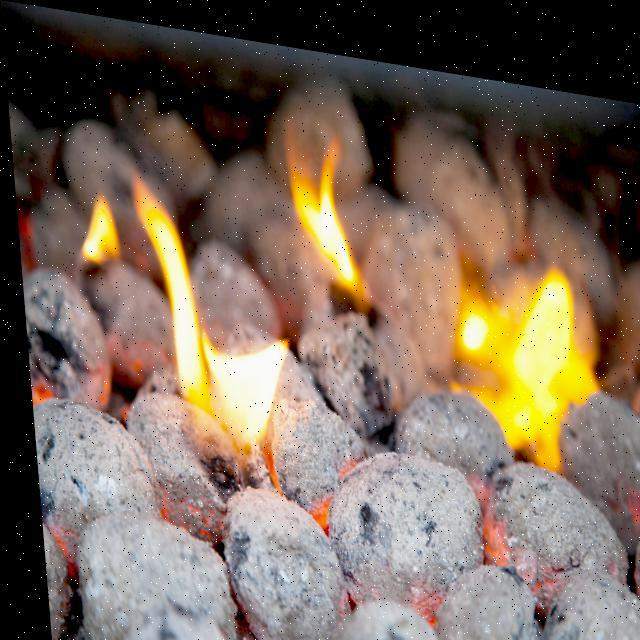Fire: (92, 169, 296, 486), (450, 216, 617, 477), (273, 108, 395, 320)
